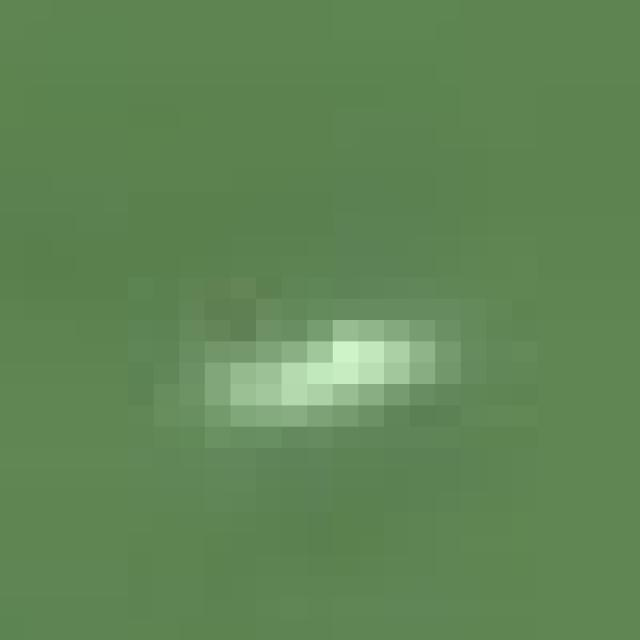ballon: (25, 21, 640, 639)
